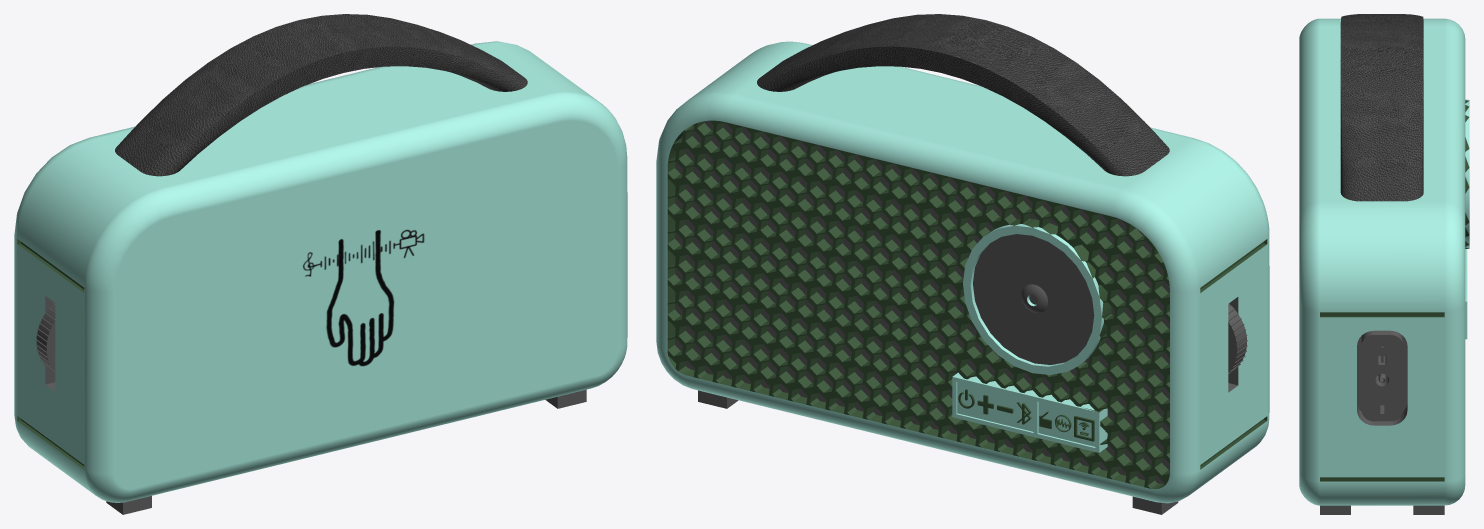
Rendered from Speaker.glb.
The picture shows the model from 3 angles, left to right: view 1: azimuth 30°, elevation 25°; view 2: azimuth 150°, elevation 25°; view 3: azimuth 270°, elevation 25°; orthographic projection. The views are drawn at different scales.
Parts seen in each view (by area): view 1: Cyan.001; view 2: Cyan.001; view 3: Cyan.001.
Part boxes in pixels (<box>): Cyan.001: <box>14,14,627,514</box>; Cyan.001: <box>656,14,1269,514</box>; Cyan.001: <box>1299,14,1469,514</box>.
Size of the model in its own units: 5.85 by 4.04 by 1.69.
7 materials, 2 textured.
